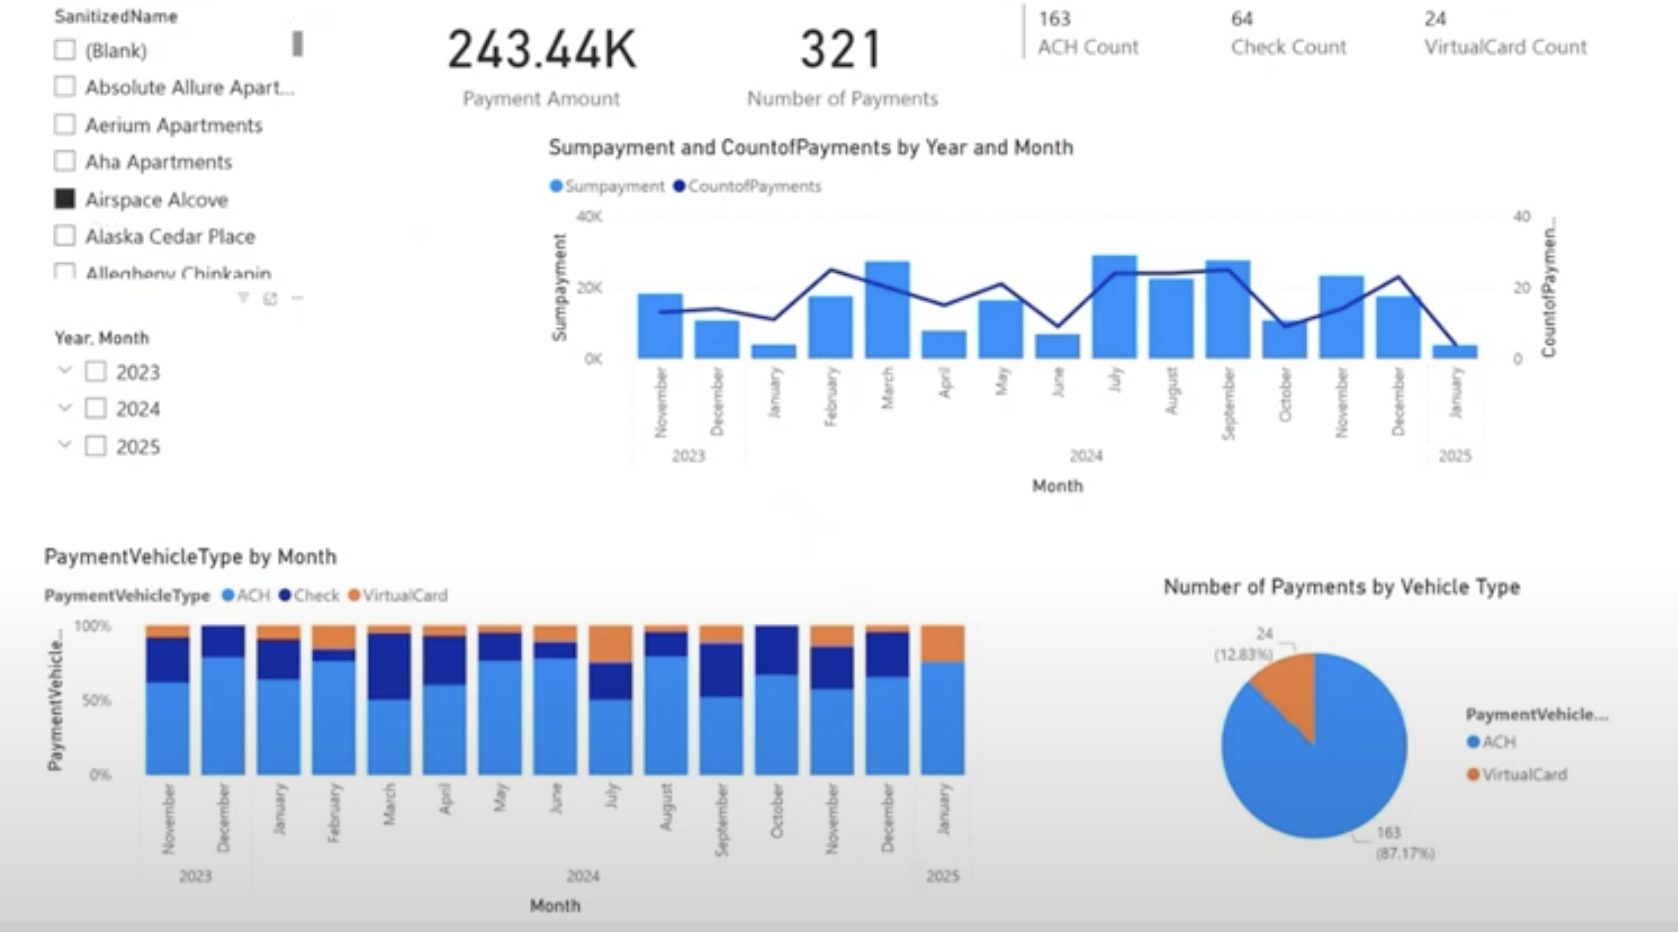

What the dashboard file says about the page in this screenshot:
{"tool":"powerbi","page":{"name":"Payment Behavior","canvas":[1280,720],"ordinal":1},"visuals":[{"type":"slicer","fields":{"Values":["SAN_ApartmentNameRef.SanitizedName"]},"box":[0,0,211.1,224.1],"z":0},{"type":"lineClusteredColumnComboChart","fields":{"Y":["df_SAN_RecipientPayments.Sumpayment"],"Y2":["df_SAN_RecipientPayments.CountofPayments"],"Category":["Table.Date.Variation.Date Hierarchy.Year","Table.Date.Variation.Date Hierarchy.Month"]},"box":[391.9,107,795.3,286.3],"z":1000},{"type":"hundredPercentStackedColumnChart","title":"PaymentVehicleType by Month","fields":{"Series":["df_SAN_RecipientPayments.PaymentVehicleType"],"Y":["CountNonNull(df_SAN_RecipientPayments.PaymentVehicleType)"],"Category":["Table.Date.Variation.Date Hierarchy.Year","Table.Date.Variation.Date Hierarchy.Month"]},"box":[0,425.1,743.2,295],"z":2000},{"type":"pieChart","title":"Number of Payments by Vehicle Type","fields":{"Category":["df_SAN_RecipientPayments.PaymentVehicleType"],"Y":["CountNonNull(df_SAN_RecipientPayments.PaymentVehicleType)"]},"box":[870.5,448.3,362.9,247.3],"z":3000},{"type":"slicer","fields":{"Values":["Table.Date.Variation.Date Hierarchy.Year","Table.Date.Variation.Date Hierarchy.Month"]},"box":[0,250.2,198.1,143.2],"z":4000},{"type":"card","fields":{"Values":["df_SAN_RecipientPayments.CountofPayments"]},"box":[509,0,234.3,92.5],"z":5000},{"type":"card","fields":{"Values":["df_SAN_RecipientPayments.Sumpayment"]},"box":[274.7,0,234.3,92.5],"z":6000},{"type":"multiRowCard","fields":{"Values":["df_SAN_RecipientPayments.ACH Count","df_SAN_RecipientPayments.Check Count","df_SAN_RecipientPayments.VirtualCard Count"]},"box":[760.6,0,472.9,70.9],"z":7000}]}

Visuals, with their boxes in screenshot pixels (x1, y1, x2, y2), scaled from the page's 1280x720 canvas onto the 1678x932 screenshot:
slicer - SAN_ApartmentNameRef.SanitizedName: l=0, t=0, r=277, b=290
lineClusteredColumnComboChart - df_SAN_RecipientPayments.Sumpayment x df_SAN_RecipientPayments.CountofPayments: l=514, t=139, r=1556, b=509
"PaymentVehicleType by Month" hundredPercentStackedColumnChart: l=0, t=550, r=974, b=931
"Number of Payments by Vehicle Type" pieChart: l=1141, t=580, r=1617, b=900
slicer - Table.Date.Variation.Date Hierarchy.Year x Table.Date.Variation.Date Hierarchy.Month: l=0, t=324, r=260, b=509
card - df_SAN_RecipientPayments.CountofPayments: l=667, t=0, r=974, b=120
card - df_SAN_RecipientPayments.Sumpayment: l=360, t=0, r=667, b=120
multiRowCard - df_SAN_RecipientPayments.ACH Count x df_SAN_RecipientPayments.Check Count: l=997, t=0, r=1617, b=92
